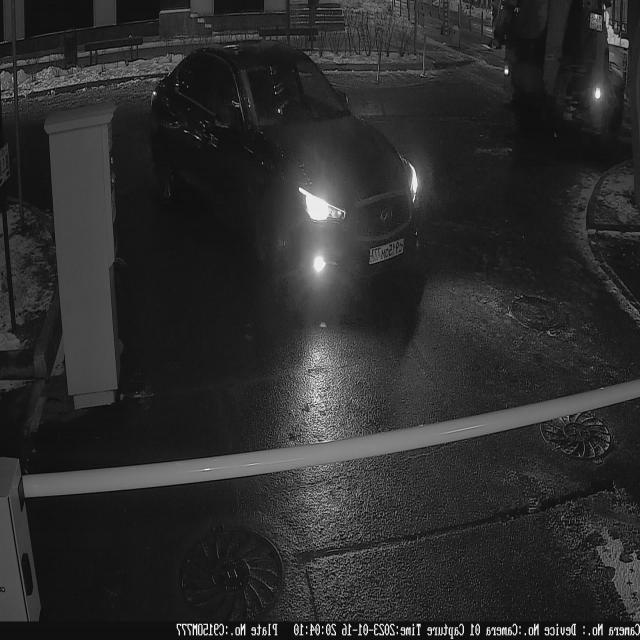car-plate-numbers: (369, 234, 409, 273)
